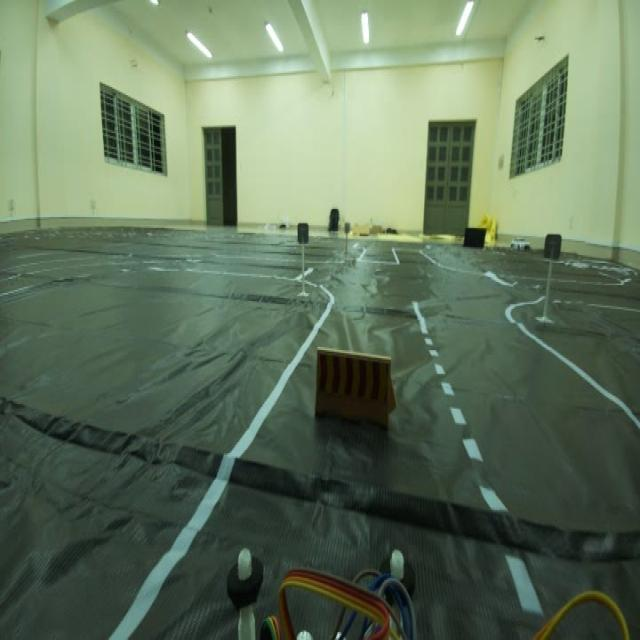roadblock: (307, 338, 401, 436)
